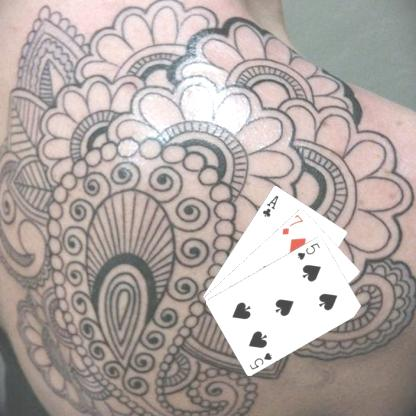5S: (246, 349, 274, 371), (294, 240, 322, 261)
7D: (279, 212, 305, 236)
AC: (260, 192, 280, 218)
